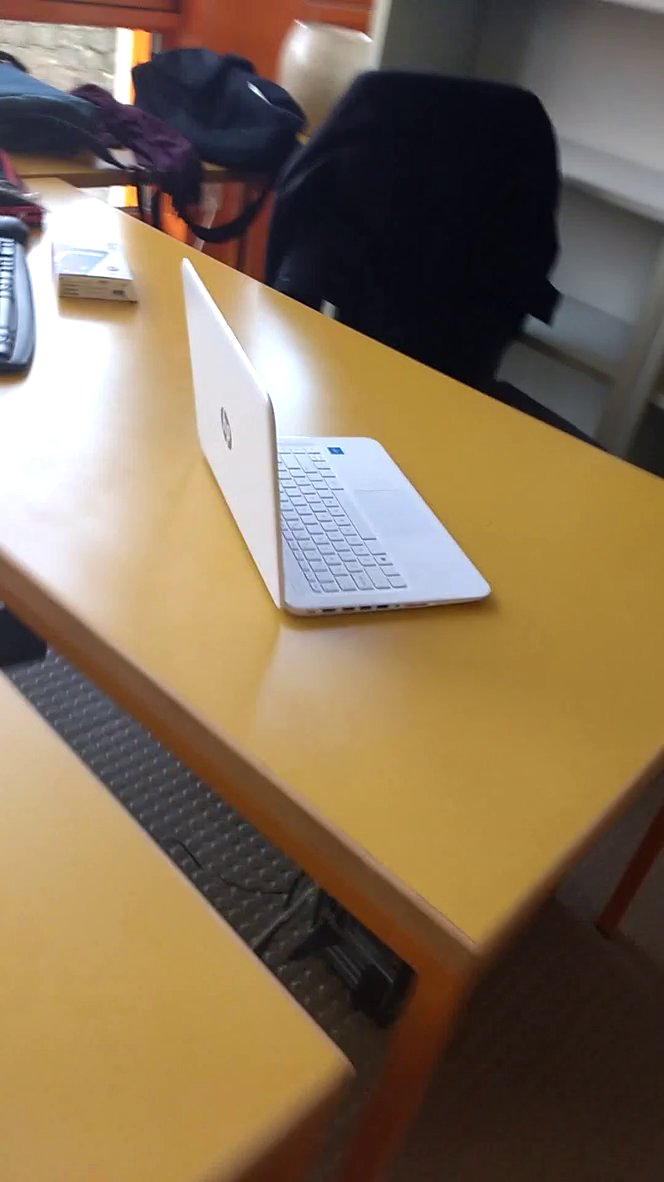bag: (125, 35, 315, 197)
chair: (263, 64, 574, 403)
laptop: (175, 247, 504, 635)
